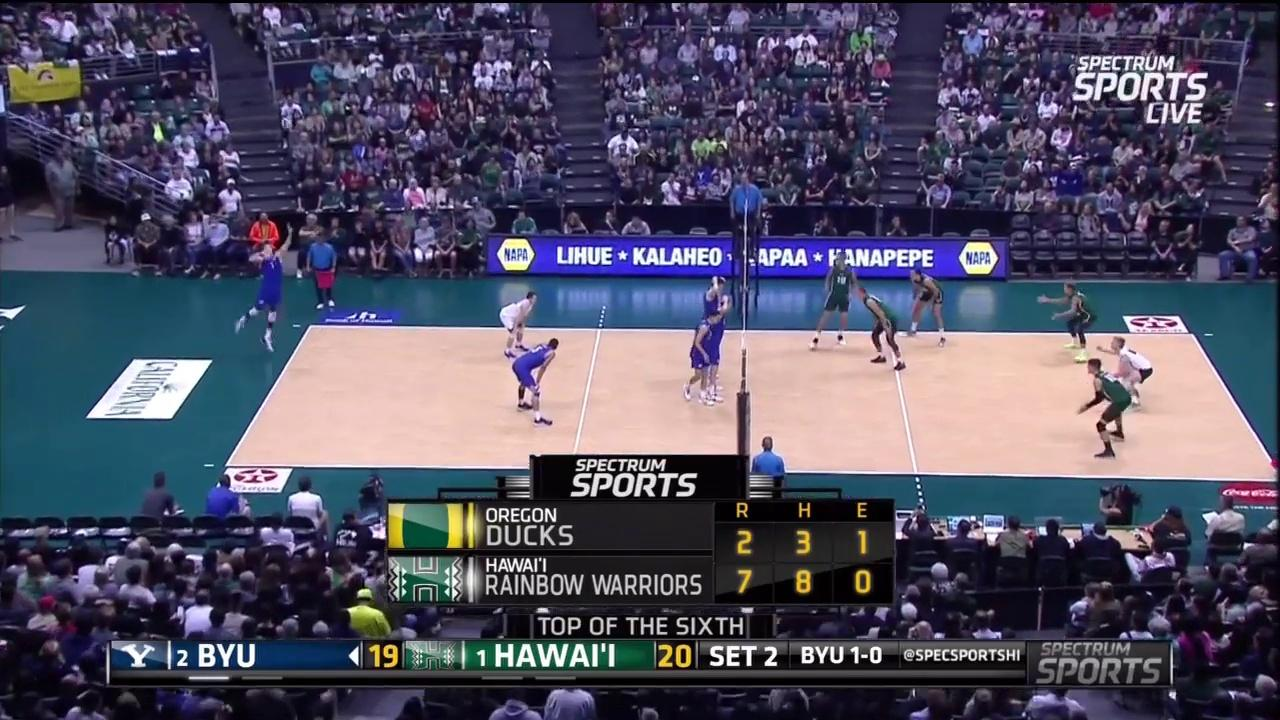player: (234, 233, 291, 360), (1081, 360, 1132, 460), (1045, 280, 1099, 364), (857, 285, 908, 373), (811, 254, 857, 351), (1103, 335, 1159, 408), (510, 335, 557, 419), (683, 307, 724, 403), (706, 294, 734, 405), (701, 274, 727, 391), (494, 291, 540, 356), (911, 261, 945, 337)
refree: (747, 434, 790, 497), (307, 229, 339, 311), (731, 170, 763, 248)
